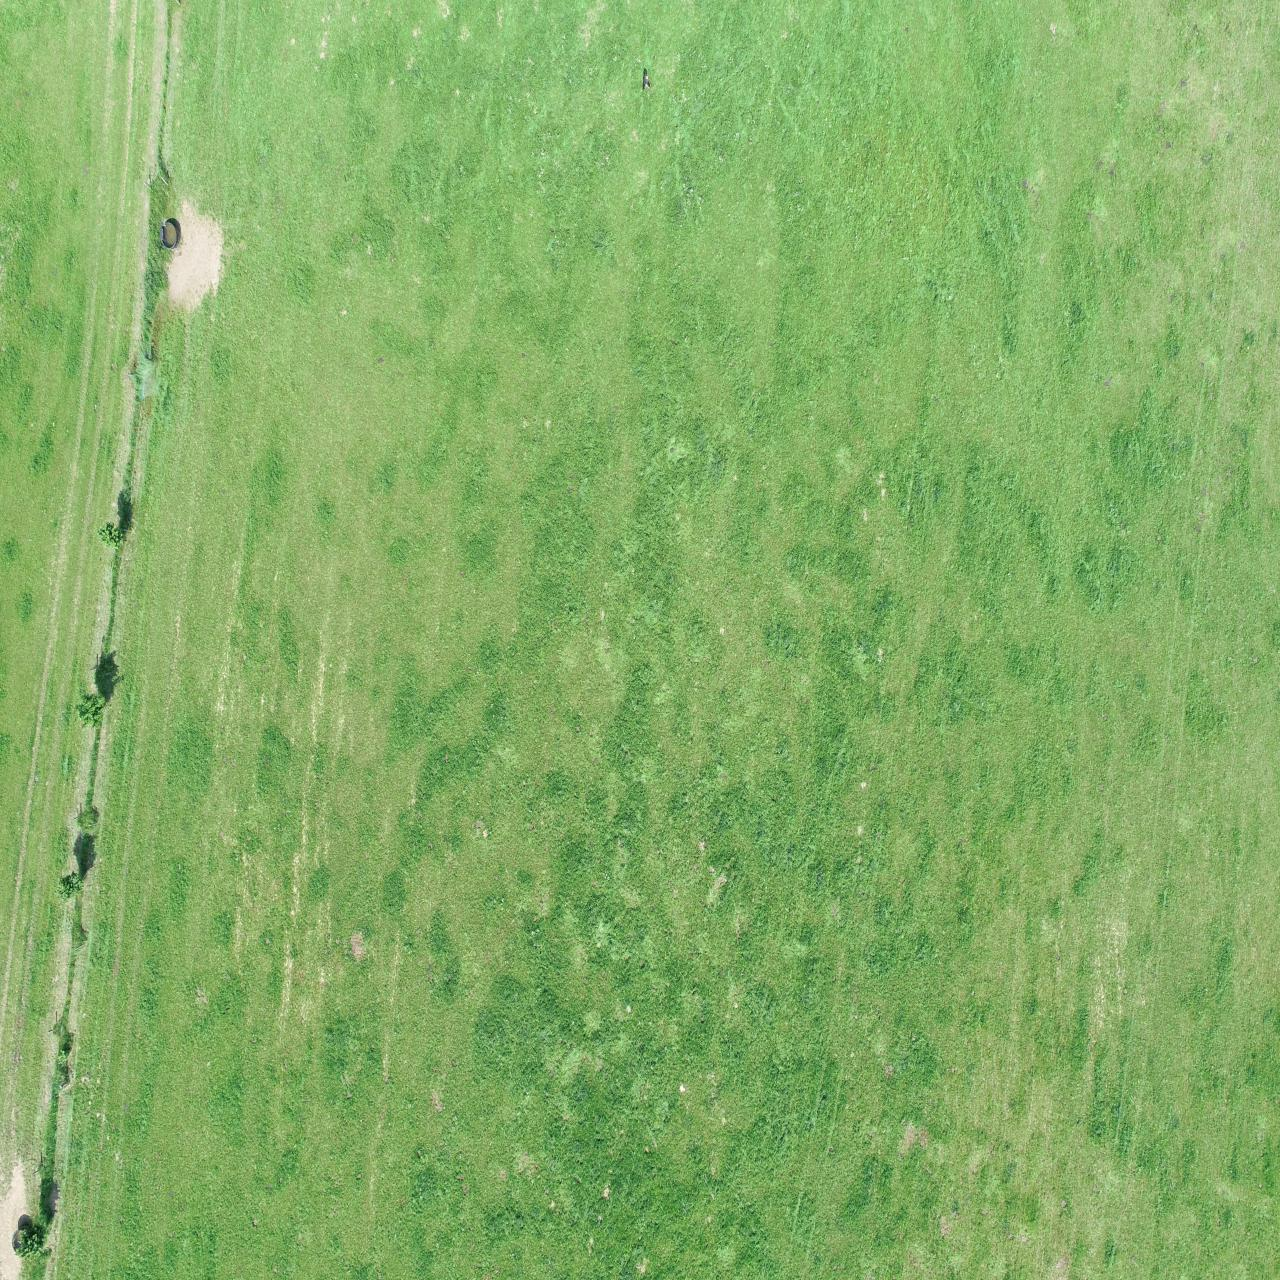cow: (742, 871, 789, 920), (847, 811, 883, 874), (688, 886, 715, 947), (784, 892, 830, 926), (298, 835, 349, 864), (16, 1070, 62, 1103), (232, 778, 279, 809)
